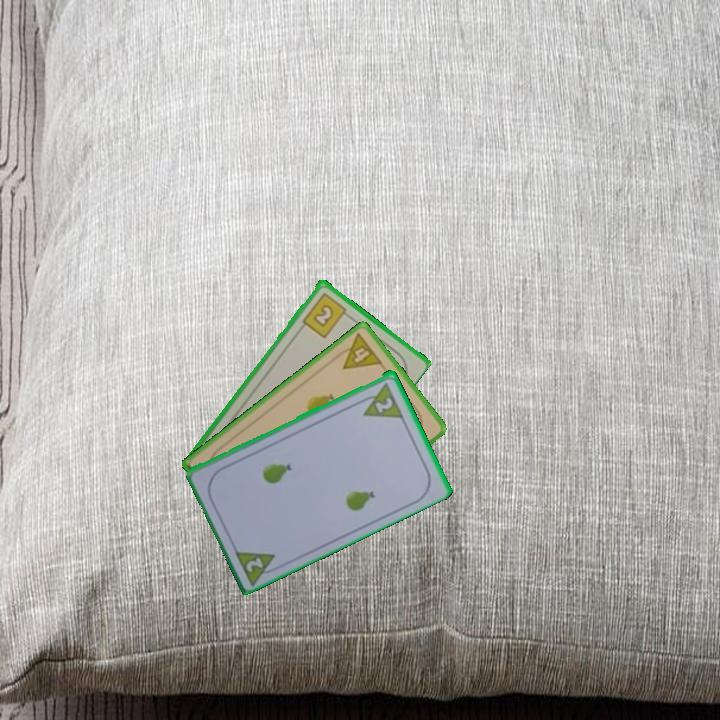2b: (298, 289, 353, 340)
2p: (355, 378, 406, 421), (242, 553, 267, 575)
4p: (331, 330, 385, 372)
